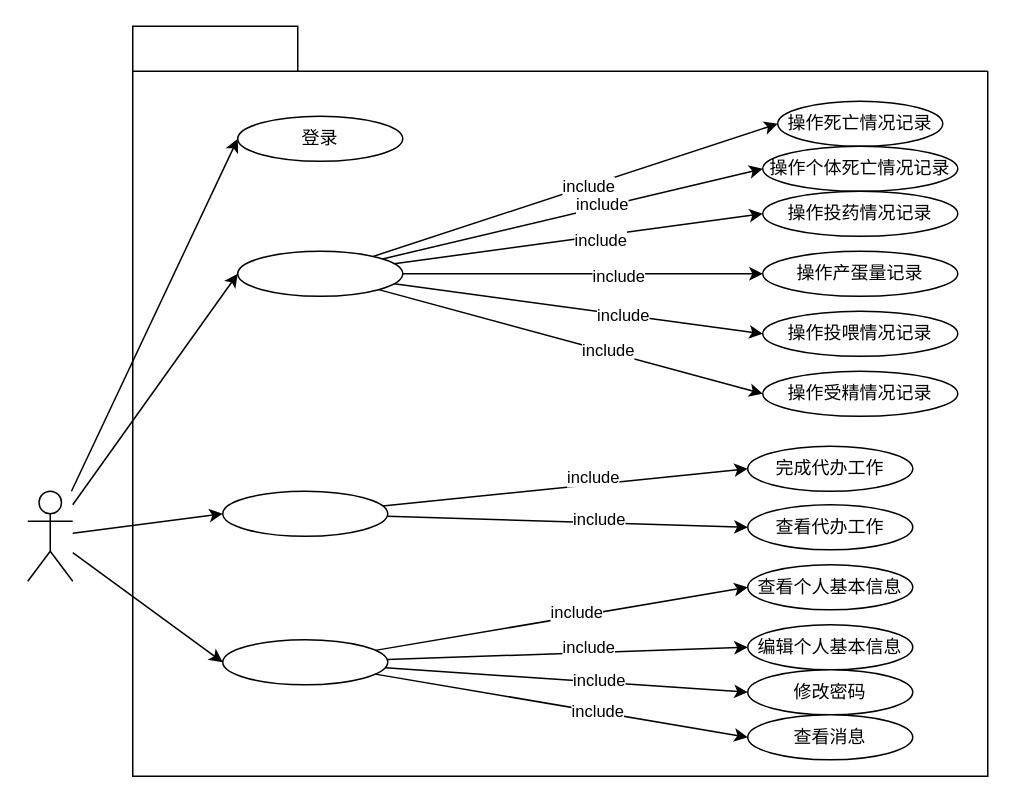
This 1014x803 diagram has some shape labels left out. The centre of each missing label's shape, as x and y in pixels:
个人中心管理: point (304, 661)
养殖员: point (49, 535)
养殖员用例图: point (214, 48)
培育记录管理: point (319, 273)
首页管理: point (304, 513)
